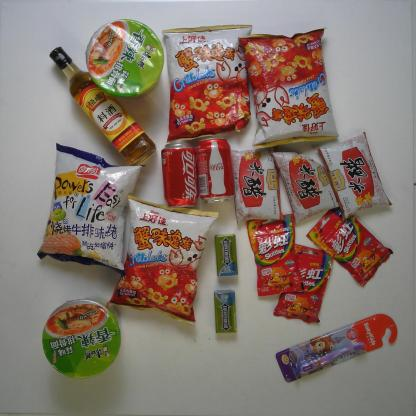Candy: (305, 207, 394, 288), (245, 214, 307, 298), (273, 244, 333, 324)
Drink: (194, 135, 236, 205), (160, 140, 200, 210)
Gum: (212, 288, 238, 336), (214, 233, 240, 278)
Instant Noodles: (40, 296, 124, 381), (82, 17, 166, 101)
Personal Hygiene: (275, 312, 400, 384)
Puffed Food: (36, 141, 148, 278), (107, 192, 219, 326), (236, 24, 342, 150), (160, 20, 254, 144)
Seasoner: (47, 43, 158, 168), (315, 130, 395, 222), (270, 150, 341, 225), (228, 143, 288, 226)
